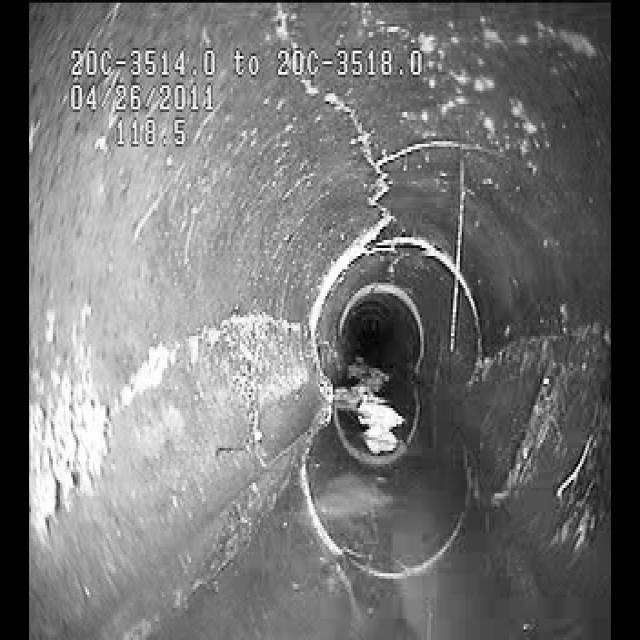Fracture: (89, 296, 295, 406), (334, 99, 424, 259)
